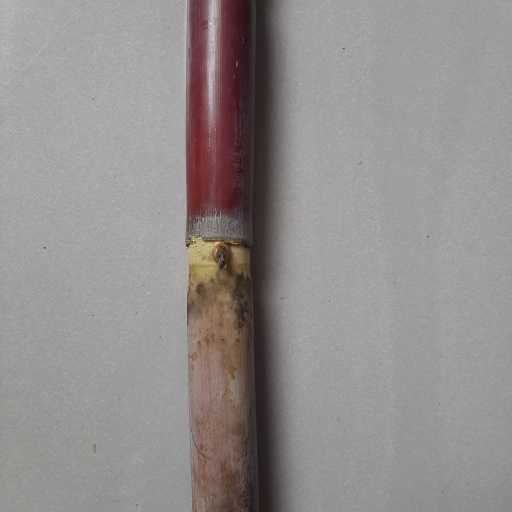Sprouted_Bud: (210, 241, 232, 273)
